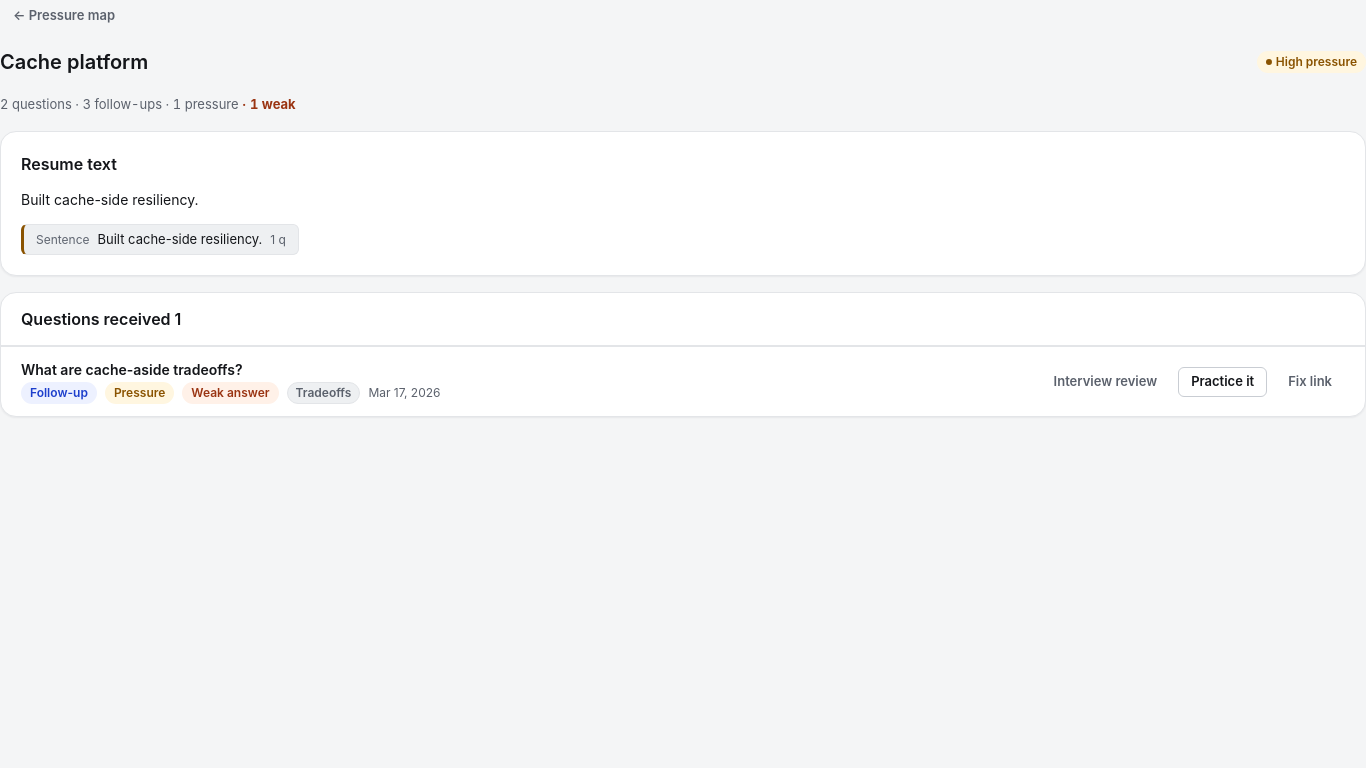
ResumeHeatmapAnchorPage › shows the claim and moves a question to the claim it really targeted
Expected: the heading "Cache platform" is shown, left=0, top=50, right=148, bottom=74
Expected: the text "What are cache-aside tradeoffs?" is shown, left=21, top=361, right=242, bottom=378
Click the button "Fix link" at (1310, 382), box left=1275, top=367, right=1345, bottom=397
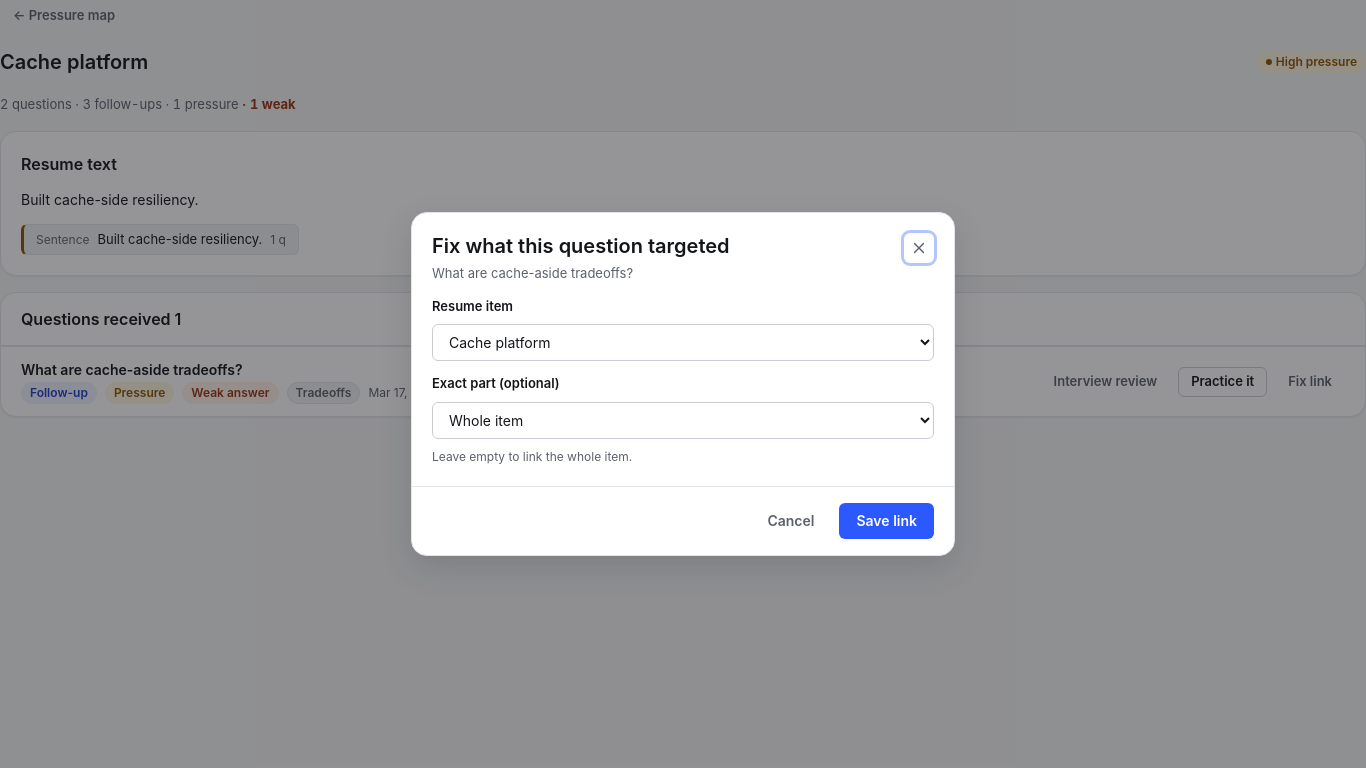
Select "Datadog · Backend Engineer" in the dropdown labelled "Resume item" at (683, 343), box left=432, top=324, right=934, bottom=361
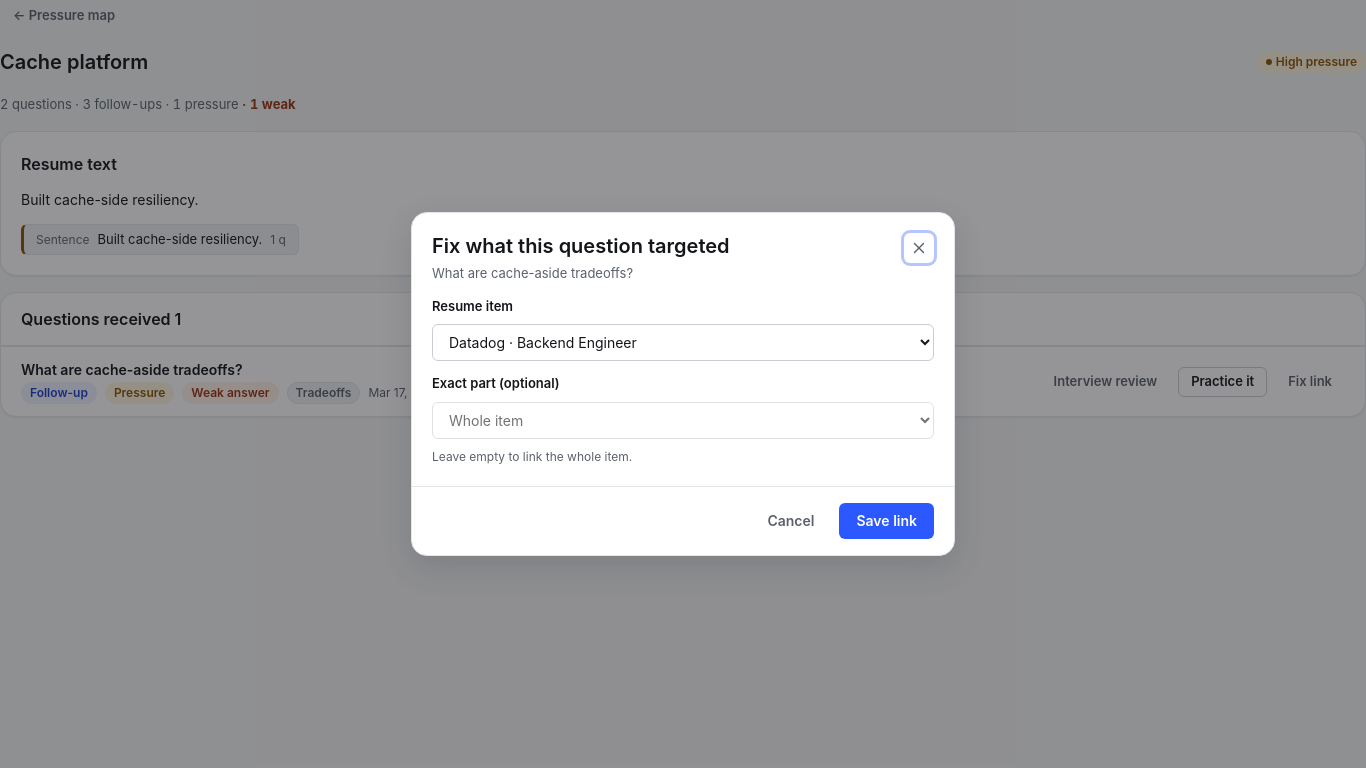
Click the button "Save link" at (887, 521), box left=840, top=503, right=934, bottom=539
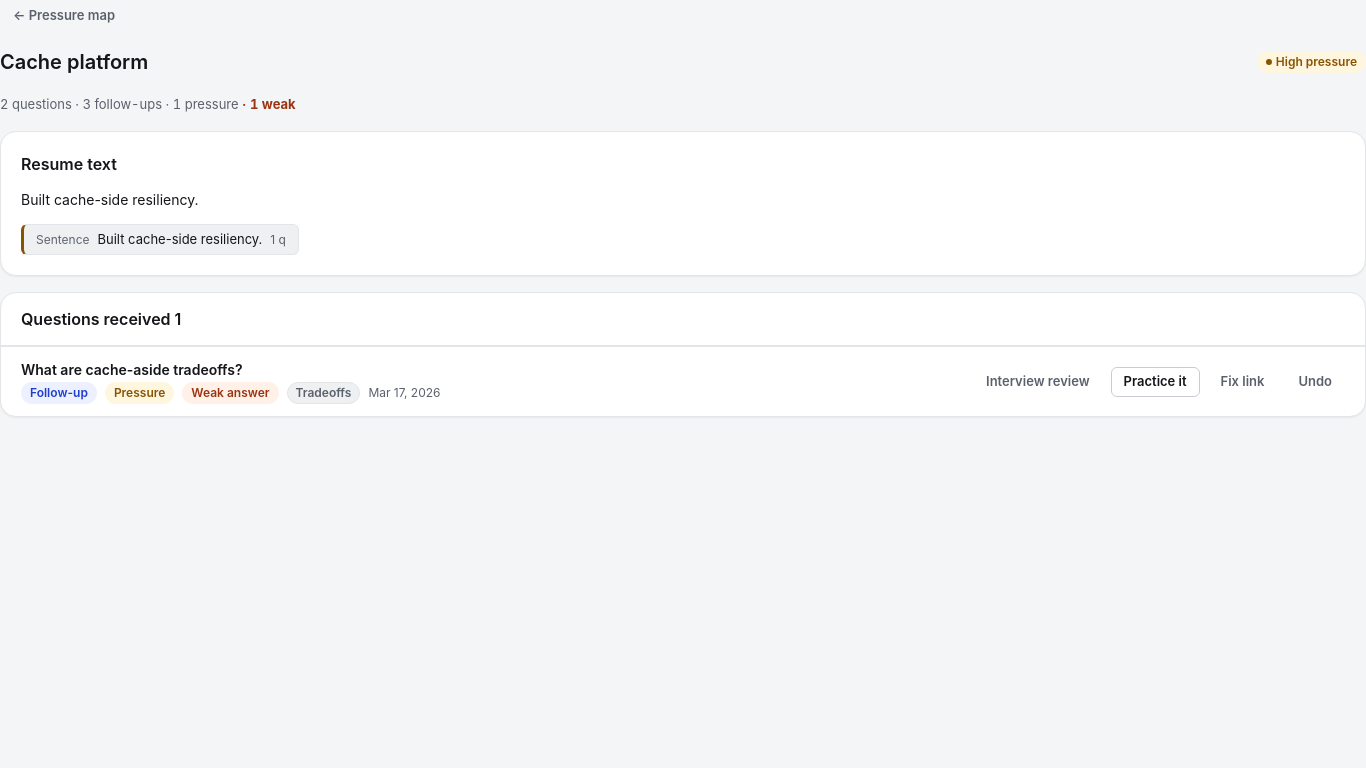
Expected: the button "Undo" is shown, left=1285, top=367, right=1345, bottom=397
